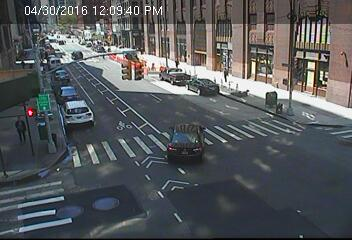neg: (292, 52, 318, 87), (116, 129, 140, 161), (165, 118, 183, 142), (270, 173, 288, 197), (58, 186, 76, 209), (289, 136, 303, 155), (248, 39, 262, 57), (221, 198, 234, 215), (87, 99, 100, 116), (217, 142, 229, 159), (186, 13, 197, 28), (96, 66, 105, 77), (154, 208, 162, 219), (268, 95, 275, 105)
pos: (6, 112, 31, 144), (220, 66, 232, 83), (171, 56, 182, 71), (18, 58, 25, 68)
